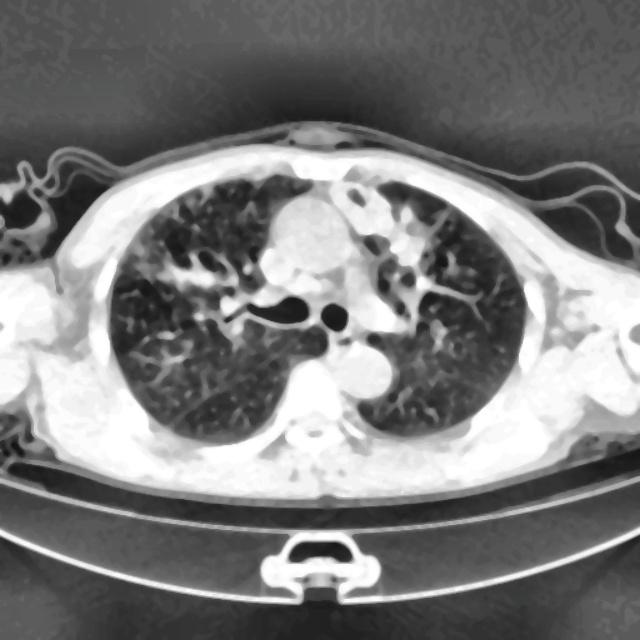covid: (0, 122, 638, 506)
